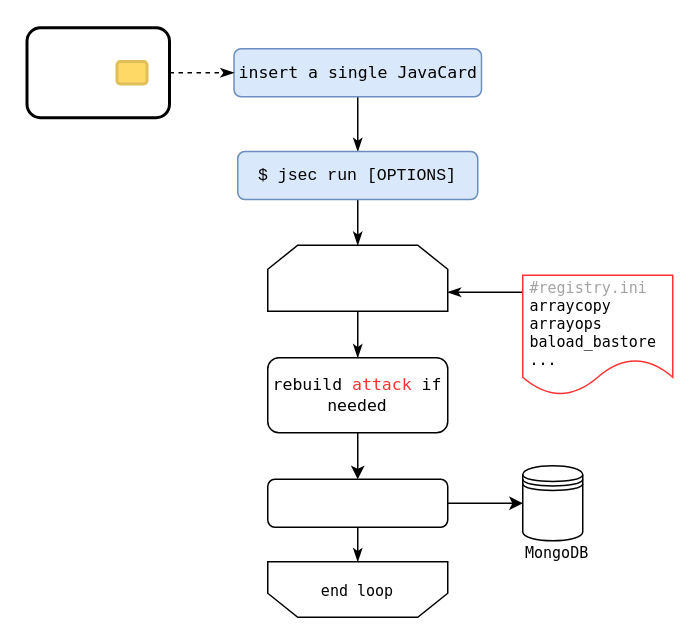
This 699x644 diagram has some shape labels left out. Each missing label, with the centre of its shape:
execute attack: [357,502]
for each attack: [357,277]
